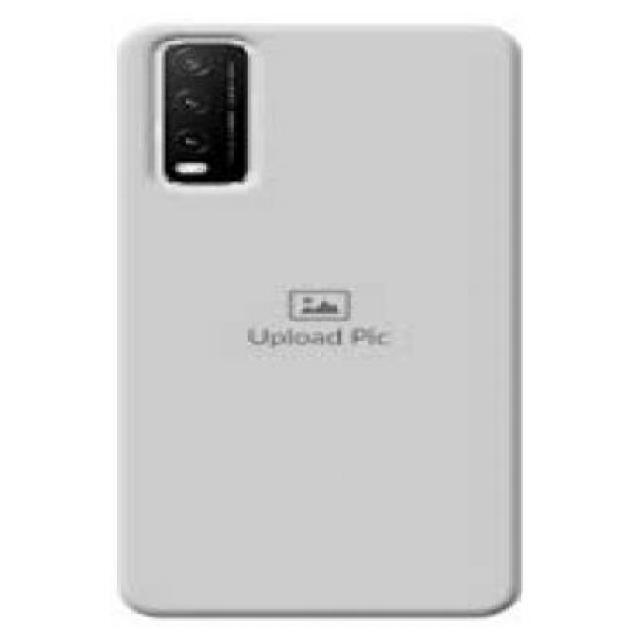fake: (117, 26, 520, 617)
